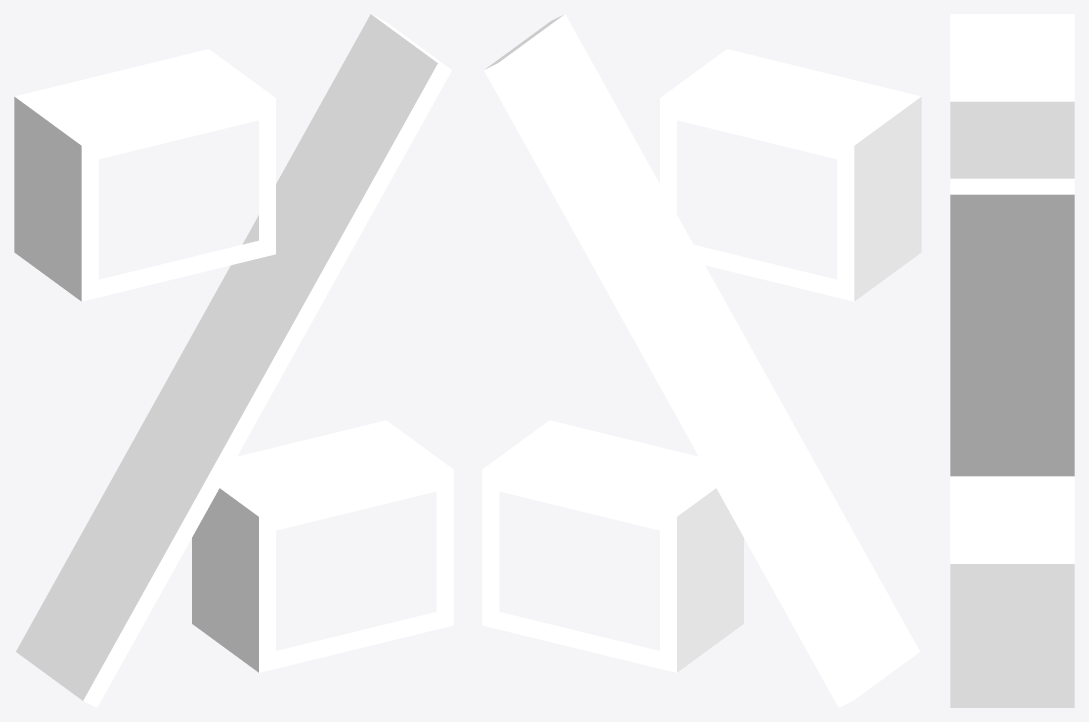
Rendered from f087d1fc-699b-493e-ade0-766e224e9ac7.glb.
The picture shows the model from 3 angles, left to right: view 1: azimuth 30°, elevation 25°; view 2: azimuth 150°, elevation 25°; view 3: azimuth 270°, elevation 25°; orthographic projection. The views are drawn at different scales.
Visible parts, largest first — view 1: %_AlphaProta_White; view 2: %_AlphaProta_White; view 3: %_AlphaProta_White.
Boxes of the visible parts, box(x1,y1,x2,y2) form: %_AlphaProta_White: box(14, 14, 453, 707); %_AlphaProta_White: box(482, 14, 921, 707); %_AlphaProta_White: box(950, 14, 1074, 707).
Size of what is drawn, in the model's own units: 0.1436 by 0.2105 by 0.045.
2 materials, 2 textured.
